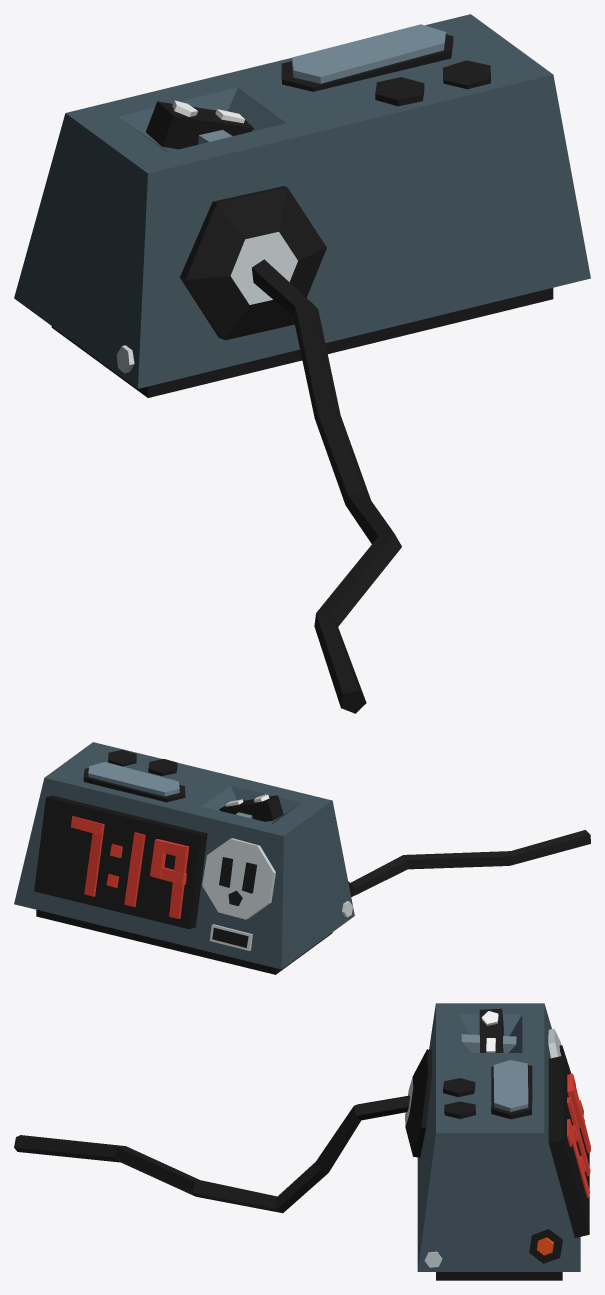
File: clock.glb
3 renders of one model, top to bottom at view 1: azimuth 30°, elevation 25°; view 2: azimuth 150°, elevation 25°; view 3: azimuth 270°, elevation 25°, orthographic. The views are drawn at different scales.
Visible parts, largest first — view 1: group335136011; view 2: group335136011; view 3: group335136011.
Part boxes in pixels (<box>): group335136011: <box>14,14,590,713</box>; group335136011: <box>14,742,590,974</box>; group335136011: <box>14,1003,590,1280</box>.
Size of the model in its own units: 0.2342 by 0.1212 by 0.3188.
1 material, 1 textured.
